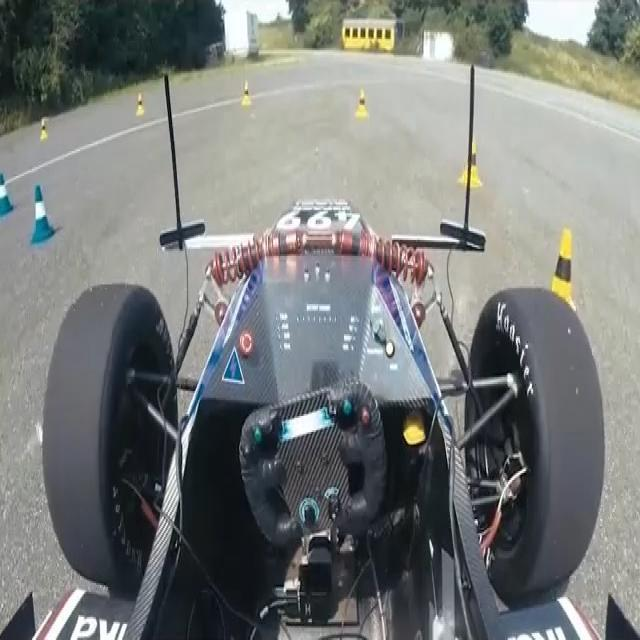blue_cone: (30, 183, 55, 245), (0, 167, 14, 220)
yellow_cone: (550, 226, 576, 322), (460, 141, 482, 188), (354, 88, 369, 120), (241, 80, 252, 106)
